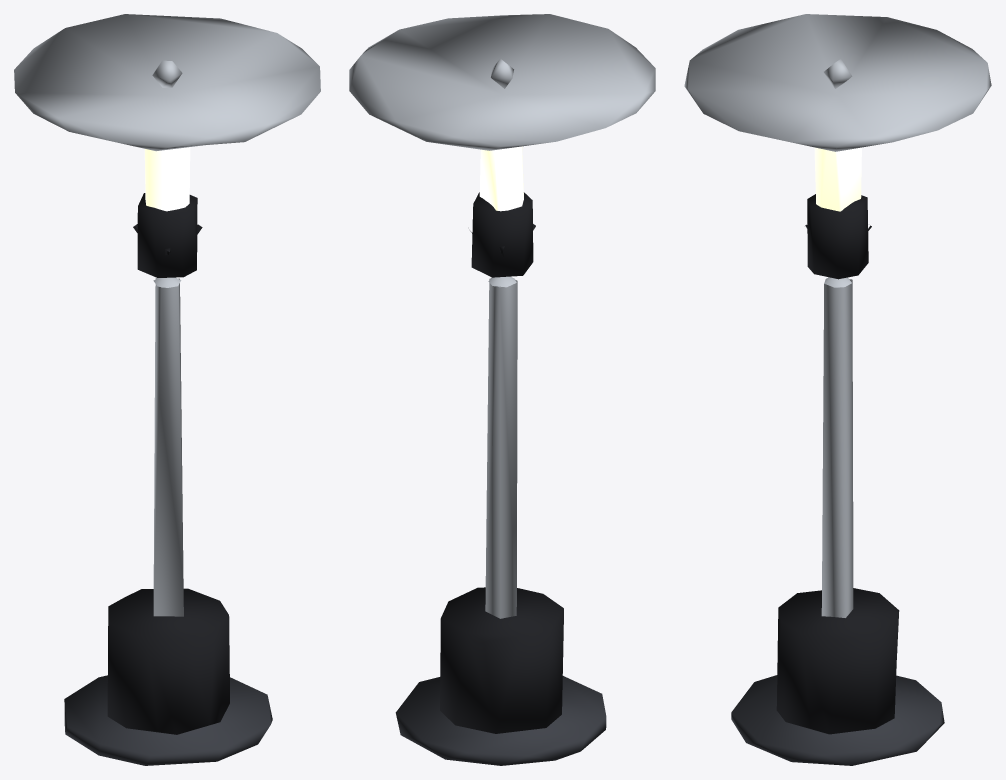
File: lod_patio_heater.glb
3 renders of one model, left to right at view 1: azimuth 30°, elevation 25°; view 2: azimuth 150°, elevation 25°; view 3: azimuth 270°, elevation 25°, orthographic.
Parts seen in each view (by area): view 1: patio_heater; view 2: patio_heater; view 3: patio_heater.
Boxes of the visible parts, x1,y1,x2,y2 form: patio_heater: [14, 14, 320, 765]; patio_heater: [349, 14, 655, 765]; patio_heater: [684, 14, 991, 765].
Bounding box in the file's own units: 0.9857 × 2.33 × 0.9785.
